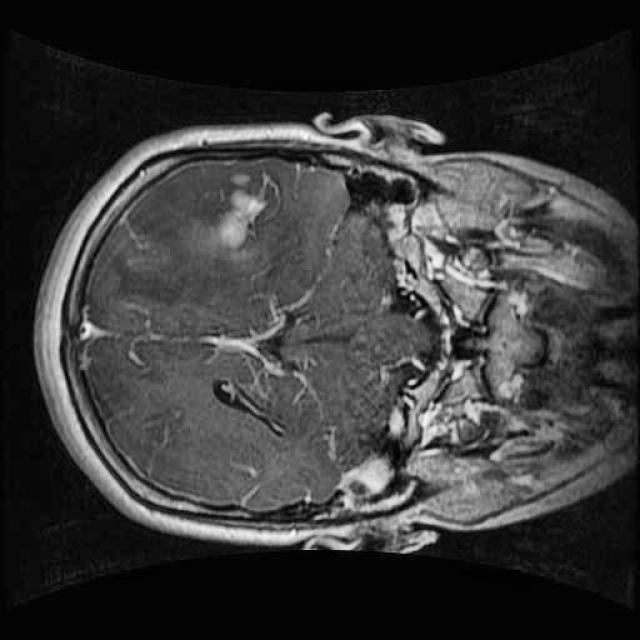Tumor: (197, 154, 289, 262)
